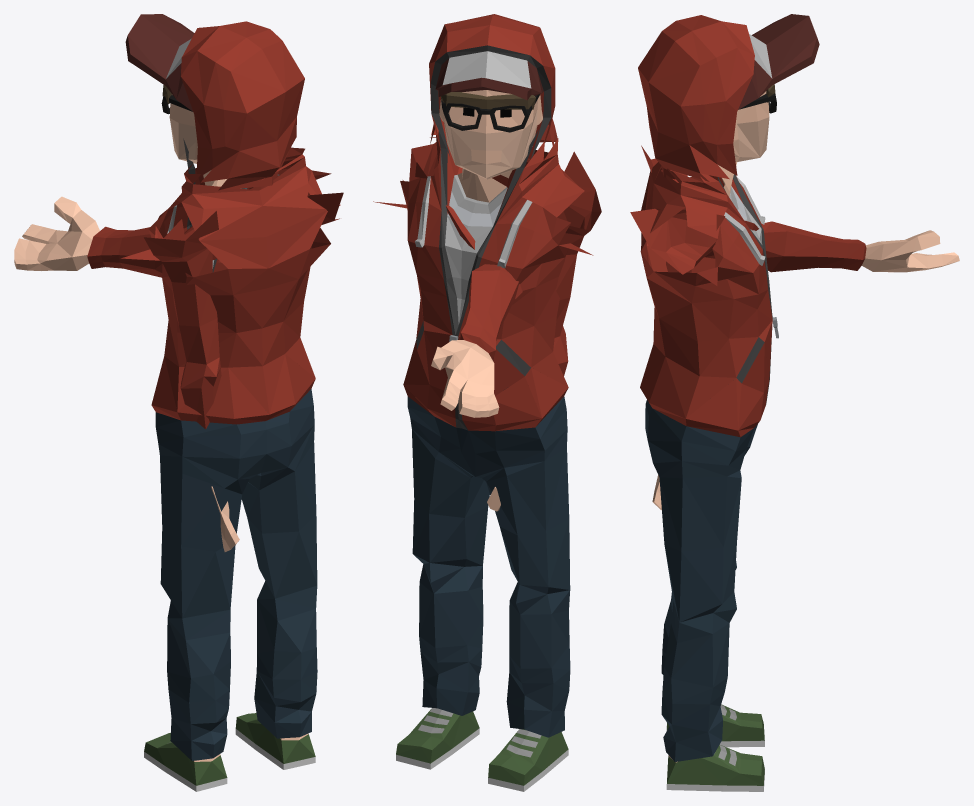
The model's file is Body_drummer_tapping.obj.
The picture shows the model from 3 angles, left to right: view 1: azimuth 30°, elevation 25°; view 2: azimuth 150°, elevation 25°; view 3: azimuth 270°, elevation 25°; orthographic projection.
Visible parts, largest first — view 1: Body_drummer_tapping; view 2: Body_drummer_tapping; view 3: Body_drummer_tapping.
Part boxes in pixels (left/top/right/bottom): Body_drummer_tapping: left=14, top=14, right=343, bottom=791; Body_drummer_tapping: left=373, top=14, right=601, bottom=791; Body_drummer_tapping: left=630, top=14, right=959, bottom=791.
Size of the model in its own units: 0.5947 by 1.85 by 0.7511.
1 material, 1 textured.
